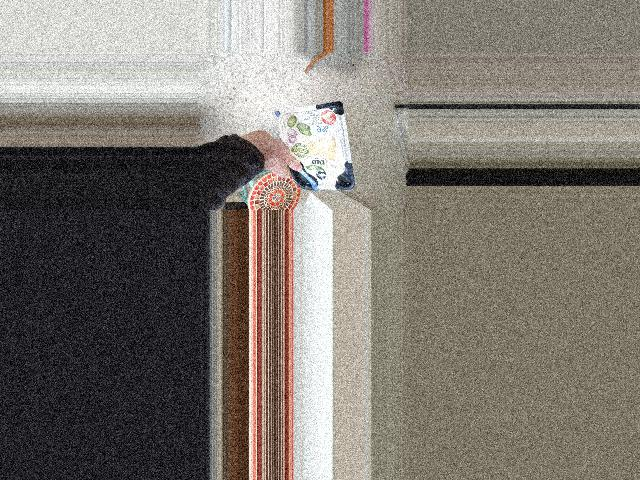cheese: (262, 104, 331, 174)
